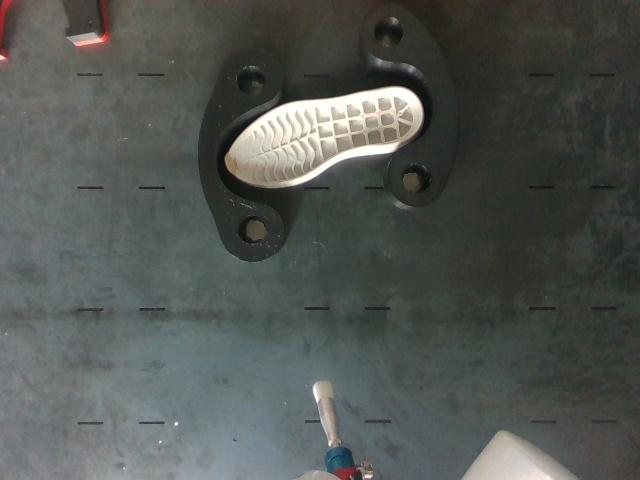shoes: (226, 88, 422, 185)
